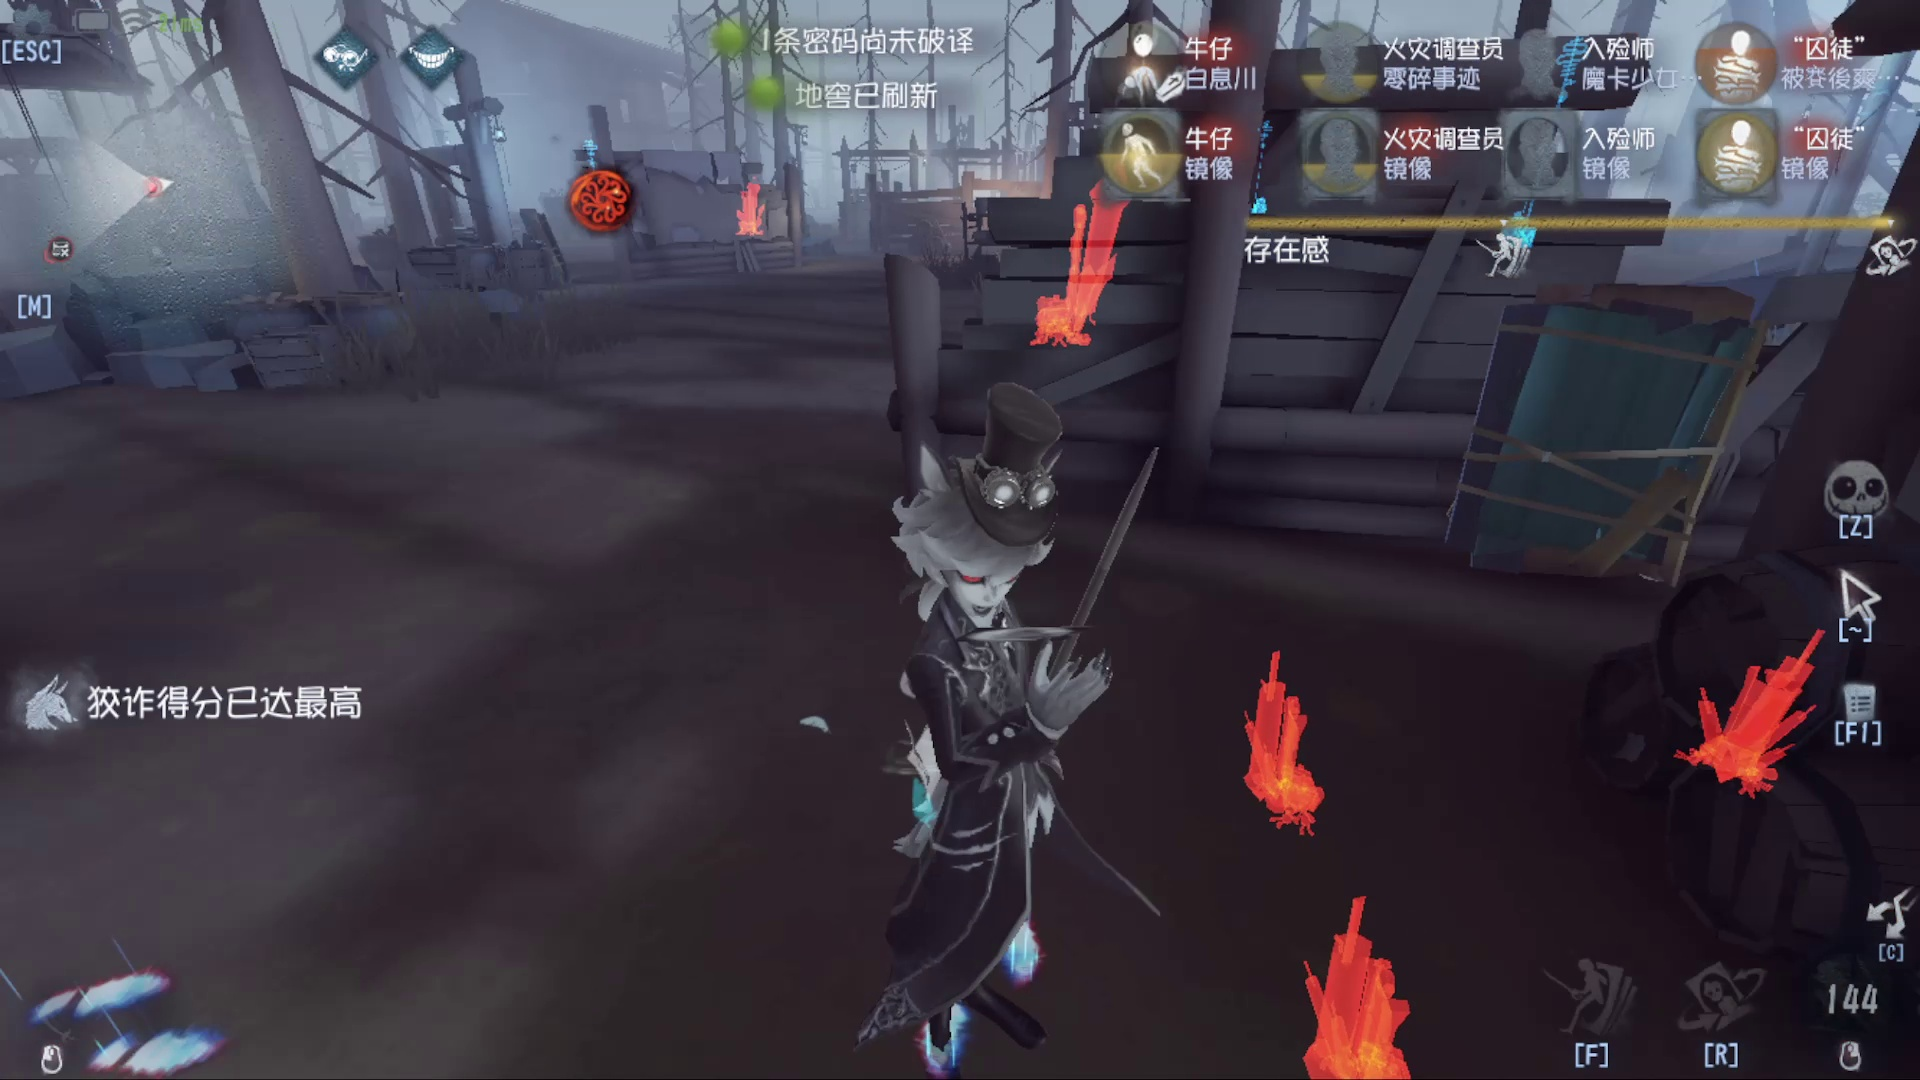木板: (1480, 272, 1731, 625)
狂欢之椅: (1209, 634, 1362, 876), (1010, 171, 1150, 365), (720, 160, 787, 257)
